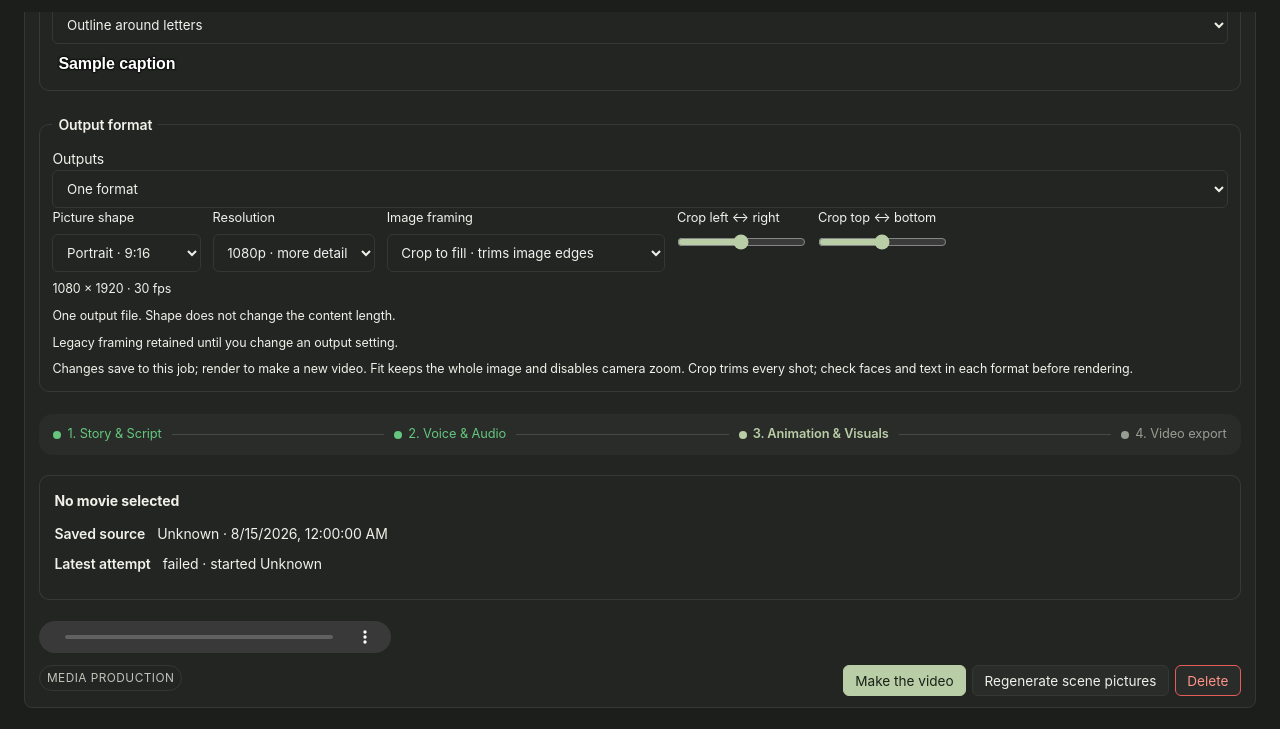
Test: rejected scene art offers reachable regeneration with no inferred payment consent
(page scrolled)
Click the button "Regenerate scene pictures" at point(1070, 680), box x1=972 y1=665 x2=1169 y2=696
(page scrolled)
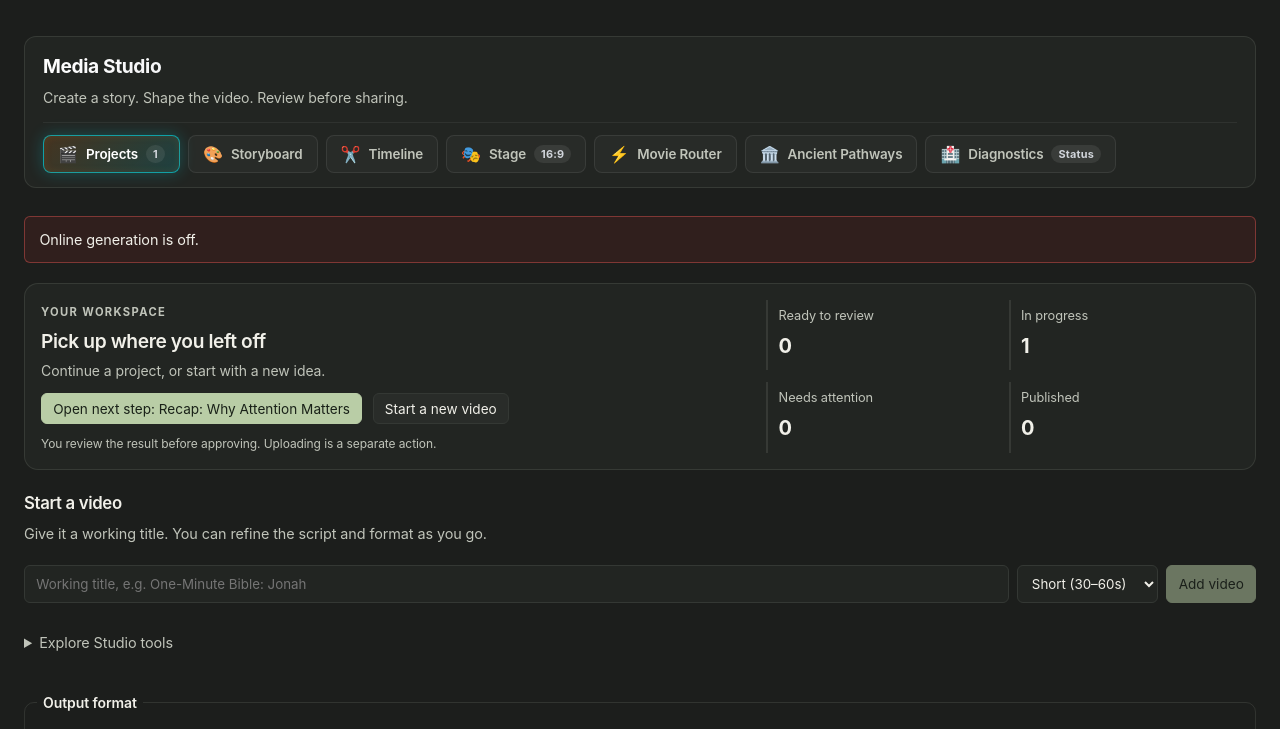
Expected: the text "Online generation is off." is shown, x1=24 y1=216 x2=1256 y2=263
